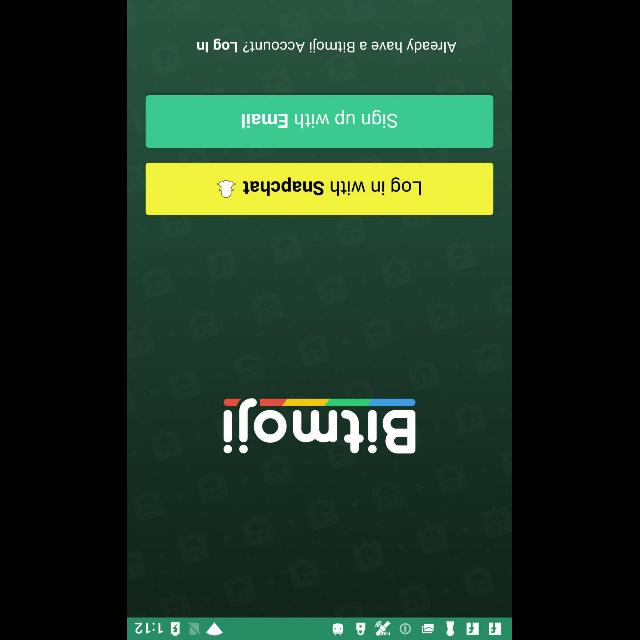image: (224, 398, 416, 454)
text: (197, 38, 457, 54)
textbutton: (146, 95, 494, 147), (146, 163, 494, 215)
uppertaskbar: (128, 617, 512, 639)
